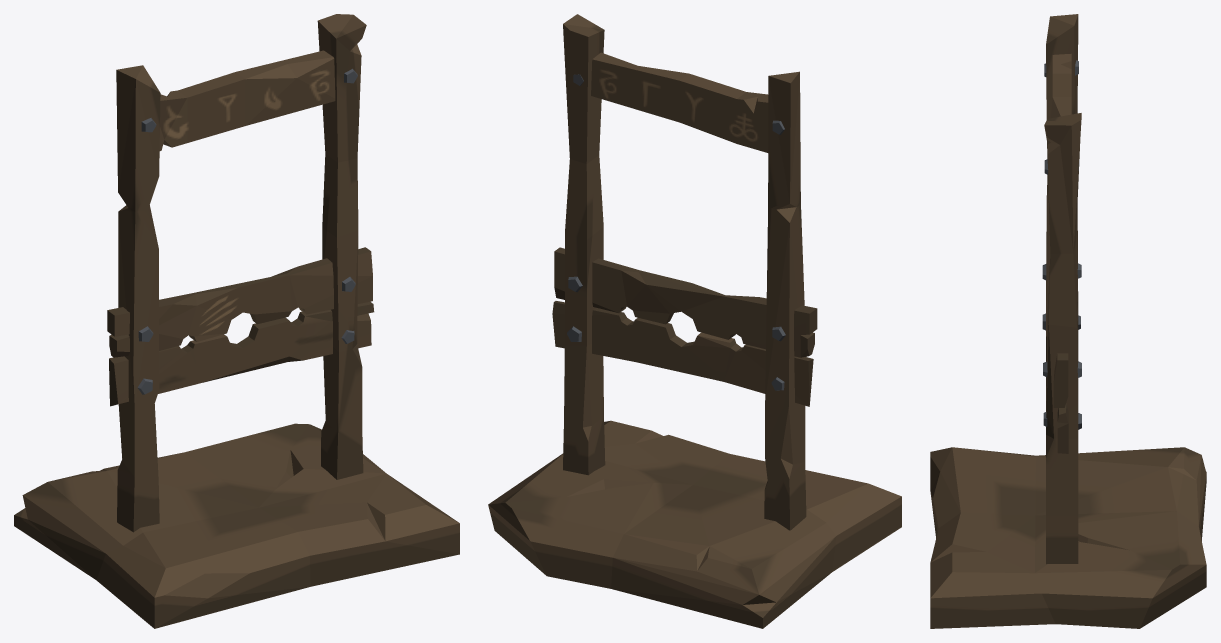
Rendered from crypt_stocks.gltf.
3 renders of one model, left to right at view 1: azimuth 30°, elevation 25°; view 2: azimuth 150°, elevation 25°; view 3: azimuth 270°, elevation 25°, orthographic.
Parts seen in each view (by area): view 1: crypt_stocks; view 2: crypt_stocks; view 3: crypt_stocks.
Boxes of the visible parts, bbox=[...] form: crypt_stocks: bbox=[14, 14, 459, 628]; crypt_stocks: bbox=[488, 14, 901, 628]; crypt_stocks: bbox=[930, 14, 1206, 628].
Size of the model in its own units: 1.61 by 2.5 by 1.28.
Materials: 1 (1 with a texture image).
